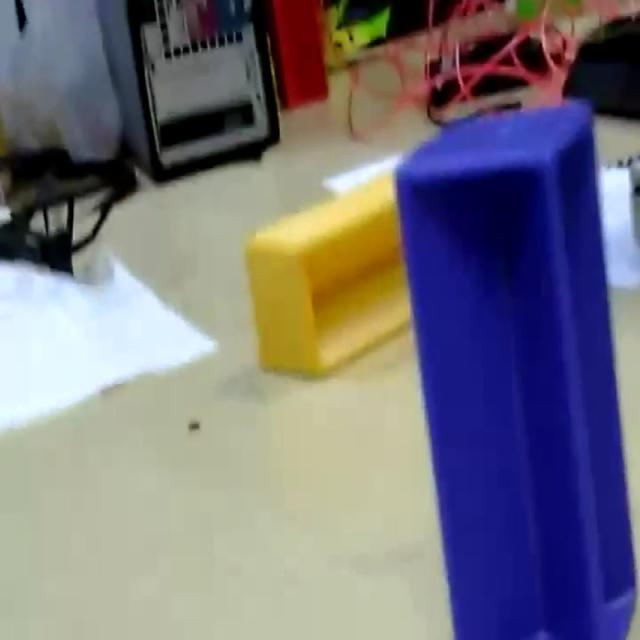blue_block: (392, 99, 636, 636)
yellow_block: (244, 164, 412, 376)
